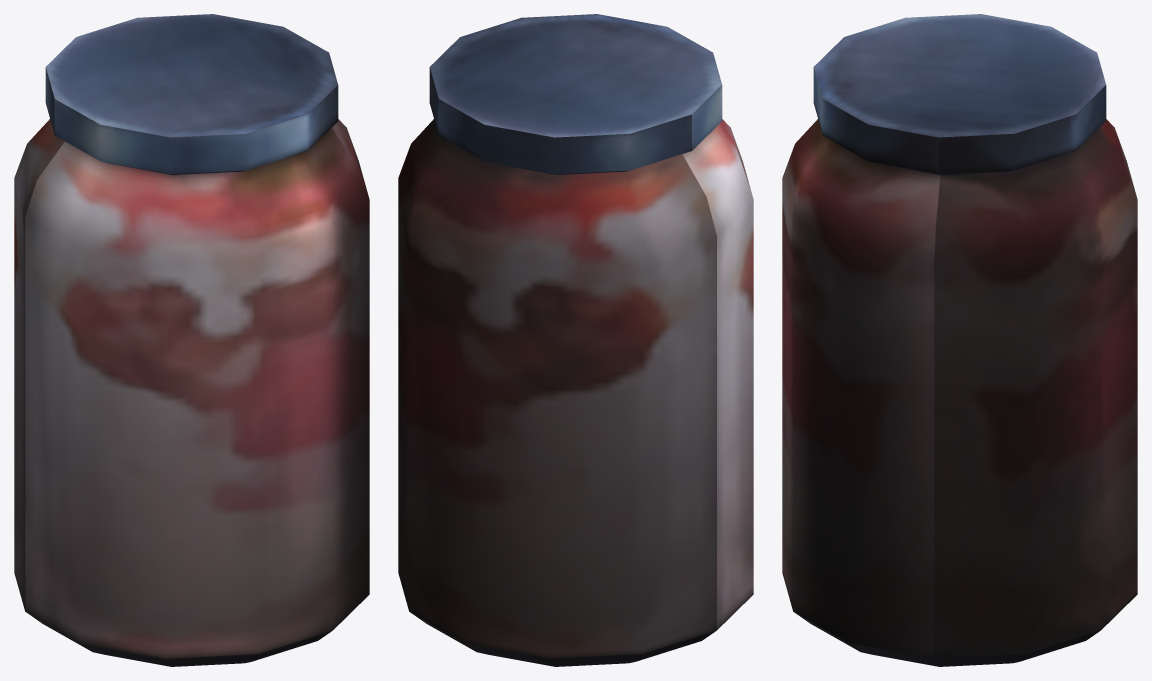
Rendered from XiuXiShi_01_guanzi_02.FBX.
The picture shows the model from 3 angles, left to right: view 1: azimuth 30°, elevation 25°; view 2: azimuth 150°, elevation 25°; view 3: azimuth 270°, elevation 25°; orthographic projection.
Parts seen in each view (by area): view 1: XiuXiShi_guanzi_02; view 2: XiuXiShi_guanzi_02; view 3: XiuXiShi_guanzi_02.
Part boxes in pixels (box(x1,y1,x2,y2)): XiuXiShi_guanzi_02: box(14, 14, 369, 666); XiuXiShi_guanzi_02: box(398, 14, 753, 666); XiuXiShi_guanzi_02: box(782, 14, 1137, 666).
Bounding box in the file's own units: 59.81 × 98.78 × 59.81.
